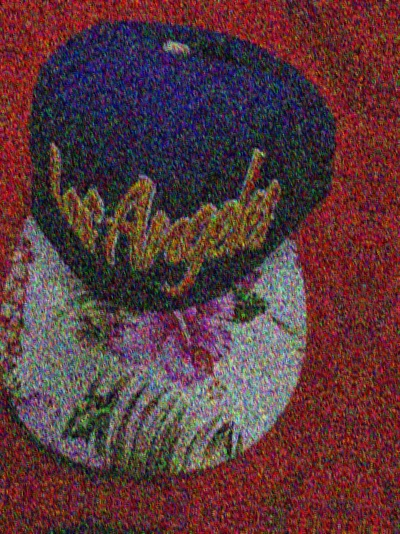Hat: (0, 0, 370, 502), (364, 28, 400, 534), (0, 511, 315, 534), (0, 0, 5, 464)
